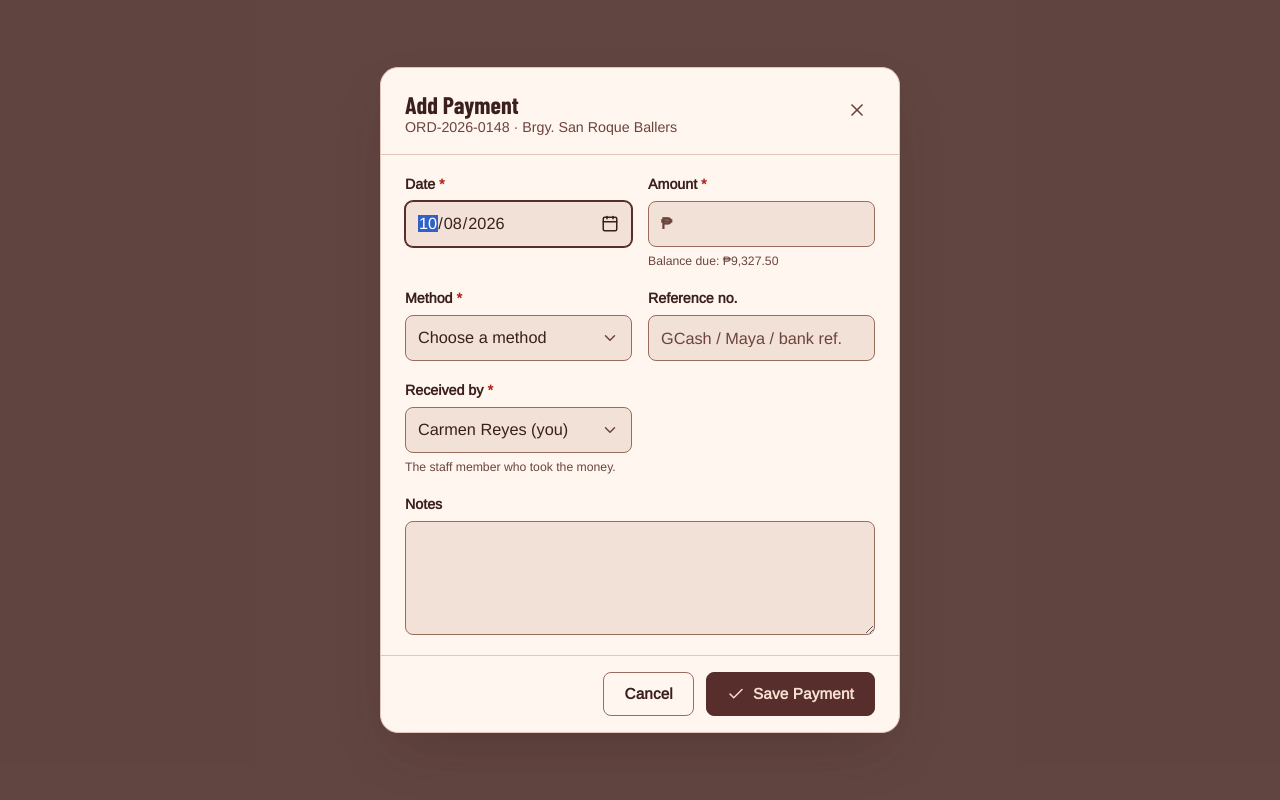
Test: add mode checks before any request (OR-3) › refuses a date after the server today
Type "2000" into the field labelled "Amount *".
click(773, 224); type("2000")  # box [672, 202, 874, 246]
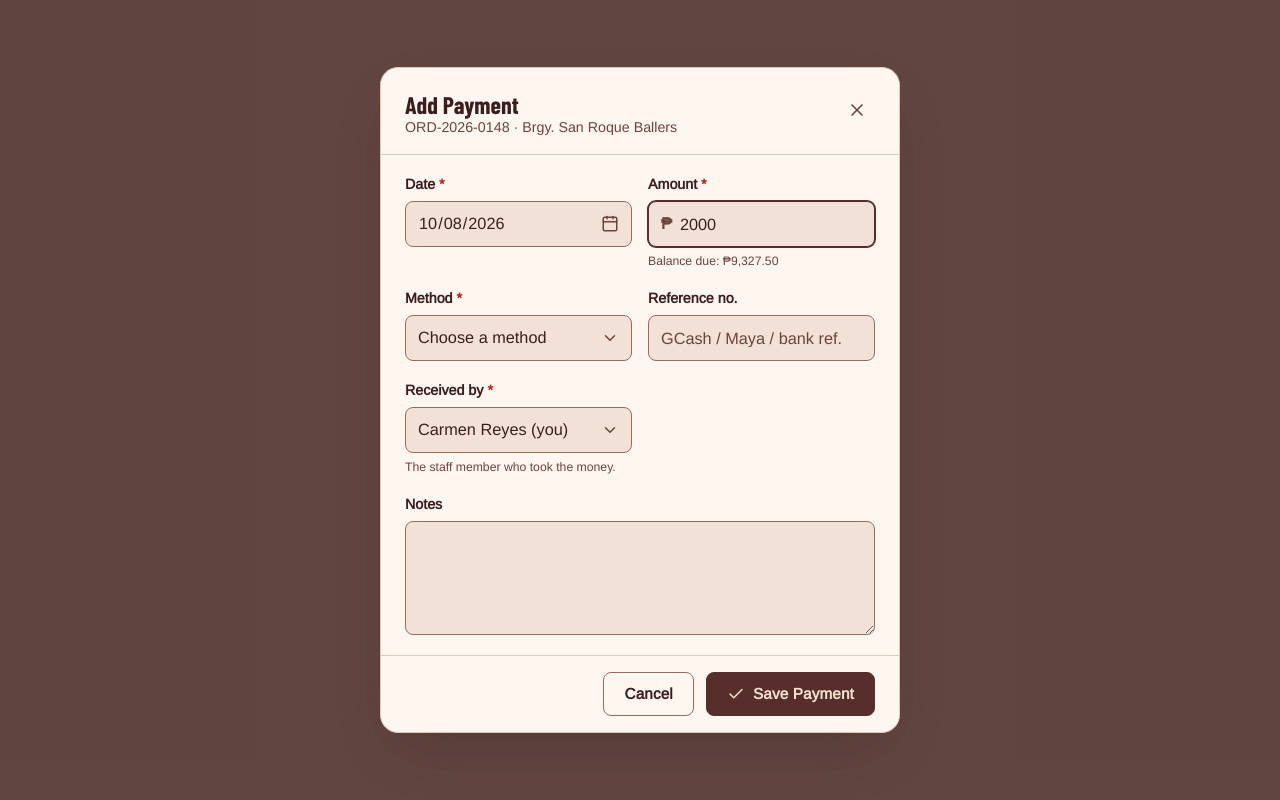
Select "GCash" in the dropdown labelled "Method *" at (518, 338), box [406, 316, 631, 360]
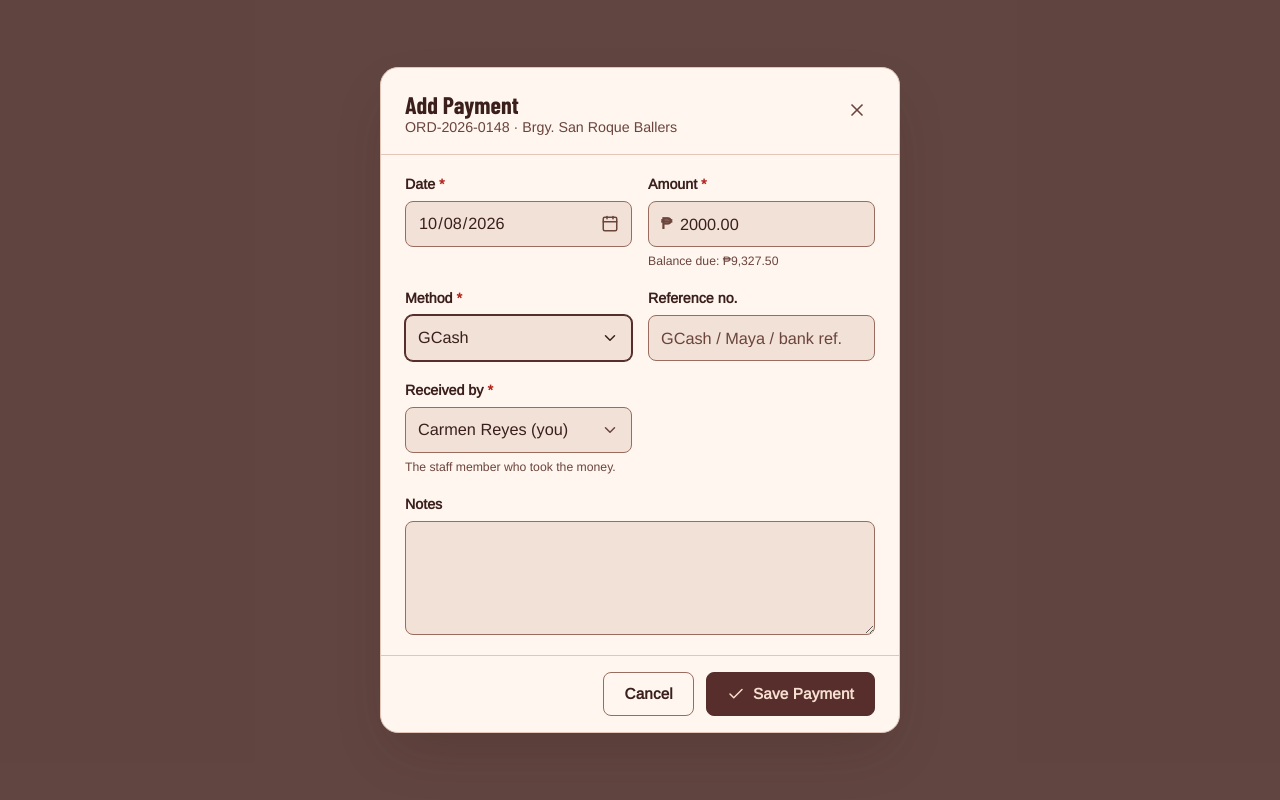
Type "2026-10-09" into the date field labelled "Date *".
click(518, 224); type("2026-10-09")  # box [406, 202, 631, 246]
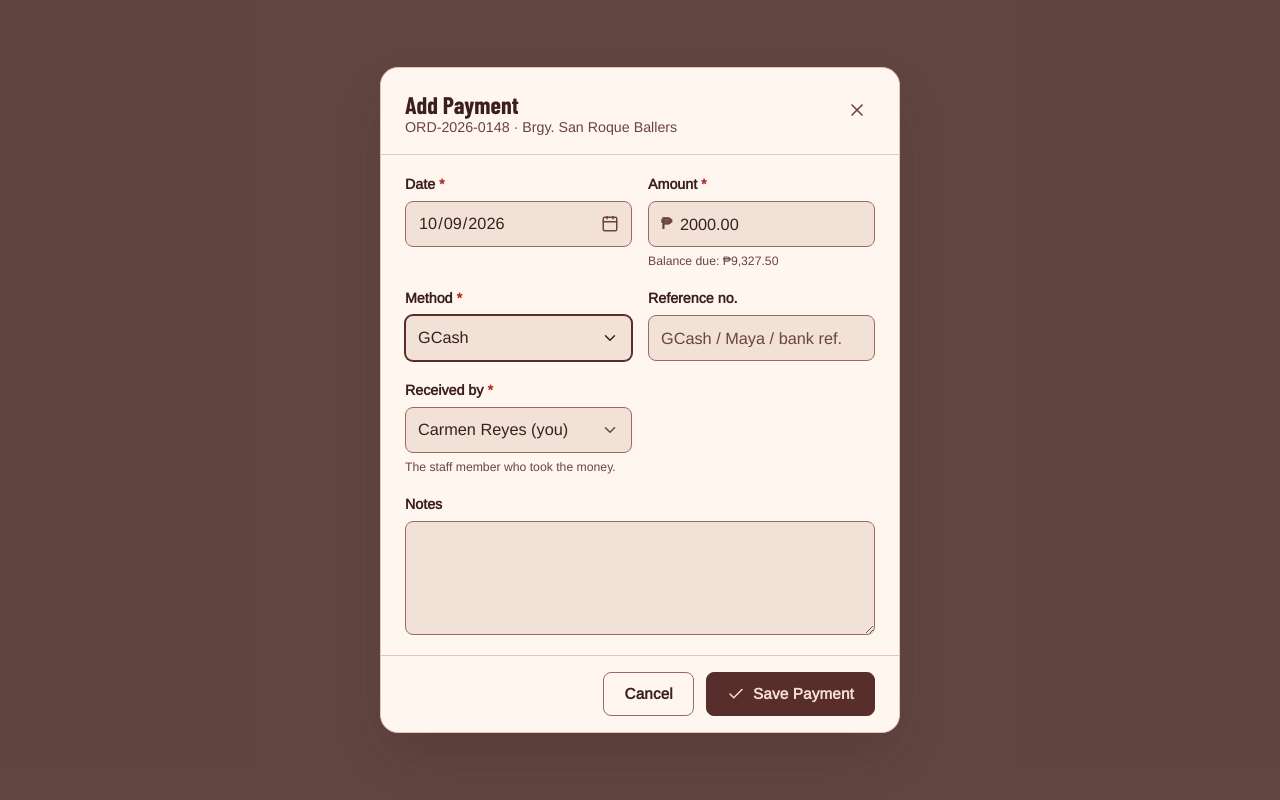
Click the button "Save Payment".
click(790, 694)  # box [706, 672, 875, 716]
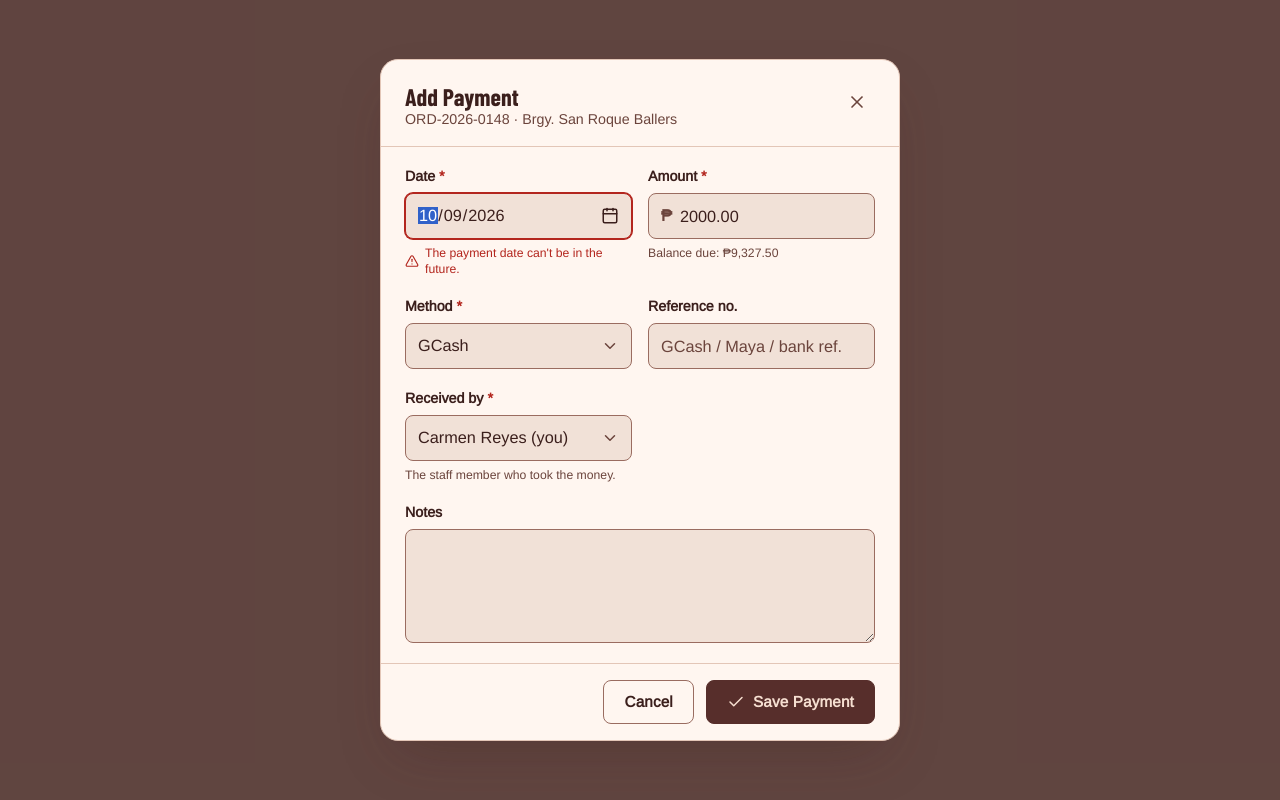
Expected: the text "The payment date can't be in the future." is shown, [405, 245, 632, 277]
